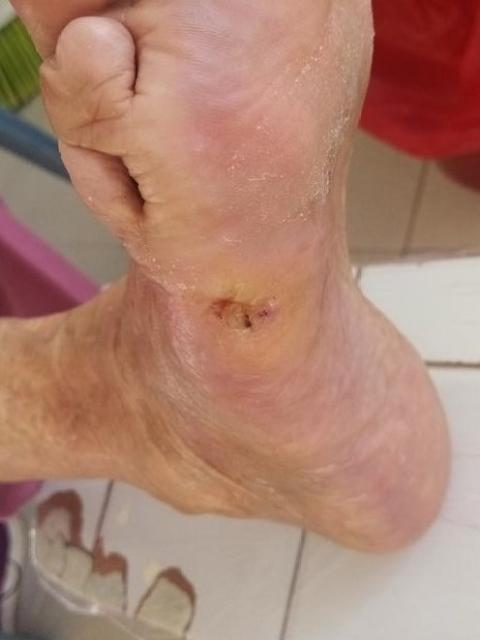wound: (207, 294, 277, 335)
